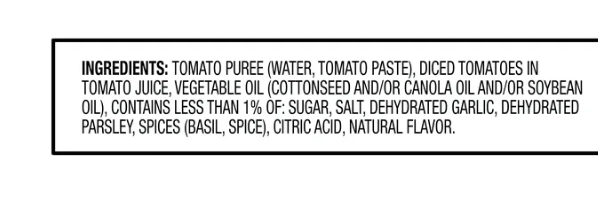l: (77, 58, 588, 140)
